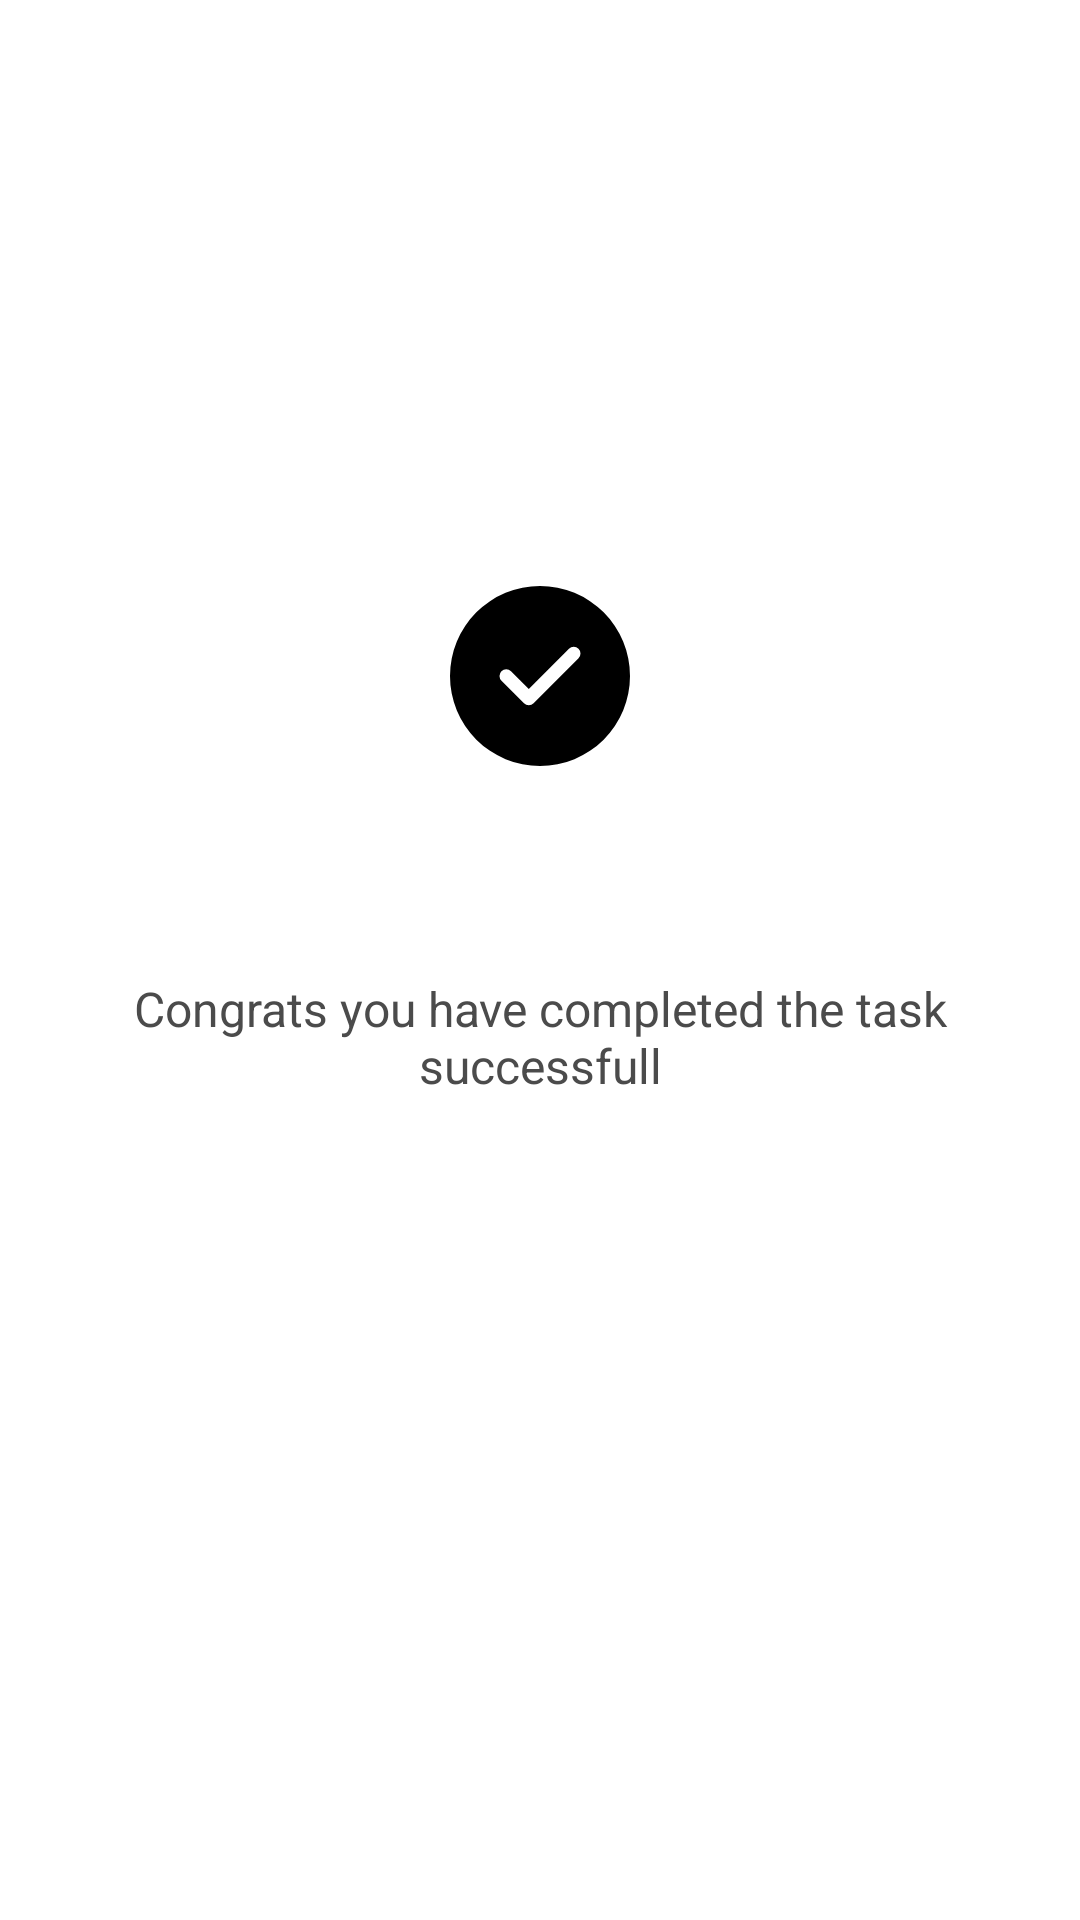

Icons on this 1080px x 1920px Android screen, each with the point to tap as (x,y):
correct: (540,676)
